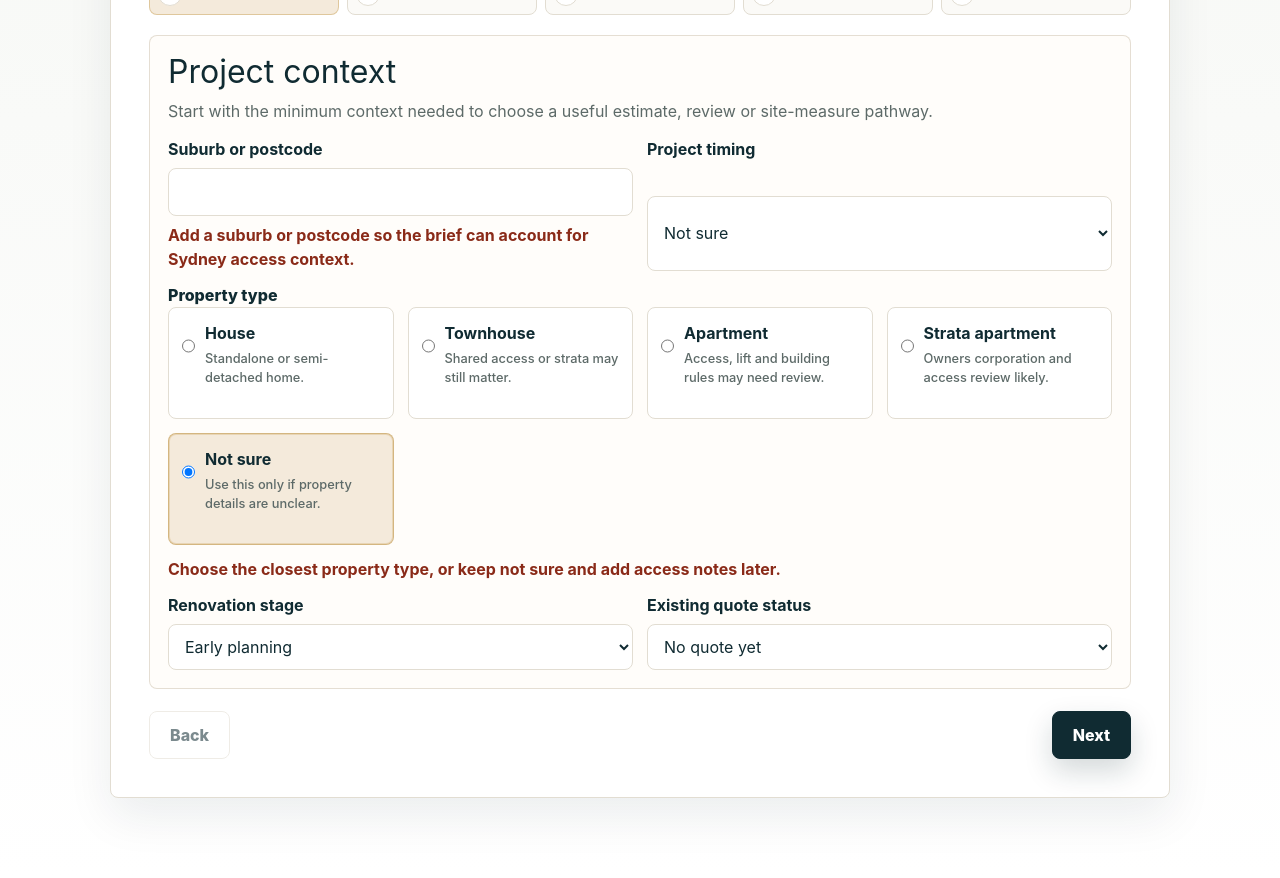
DesignBriefPage › renders enabled local fields, validation and review summary
The width and height of the screenshot is (1280, 878).
Earlier steps of the test are not shown.
Later steps or results of the test are not shown.
(page scrolled)
Expected: the text "Add a suburb or postcode" is shown, [168,225,588,269]
Step 1. Type "Mosman" into the field labelled "Suburb or postcode" → (400,192), box [168,168,633,216]
(page scrolled)
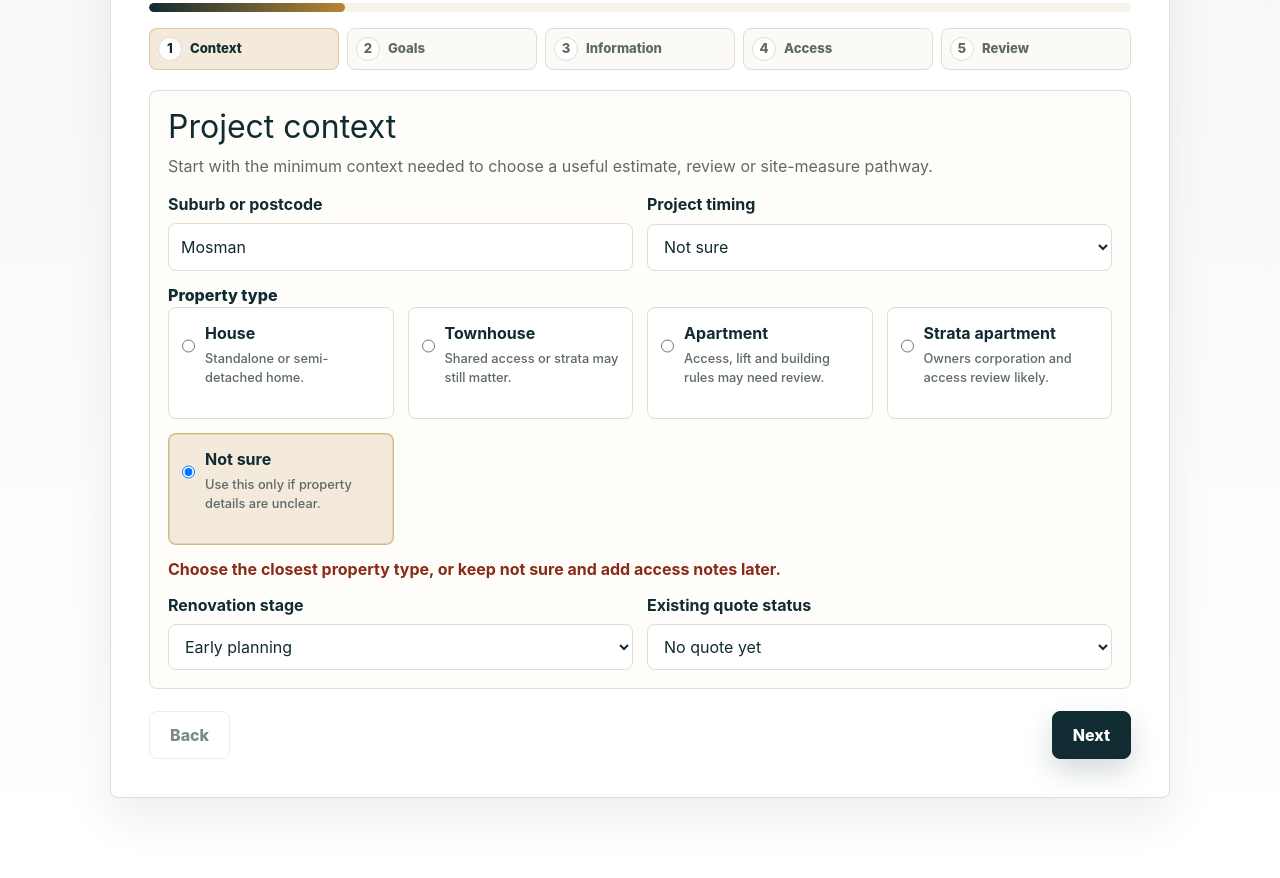
Step 2. Click the radio button labelled "House Standalone or semi-detached home." → (188,346), box [182,324,195,368]
(page scrolled)
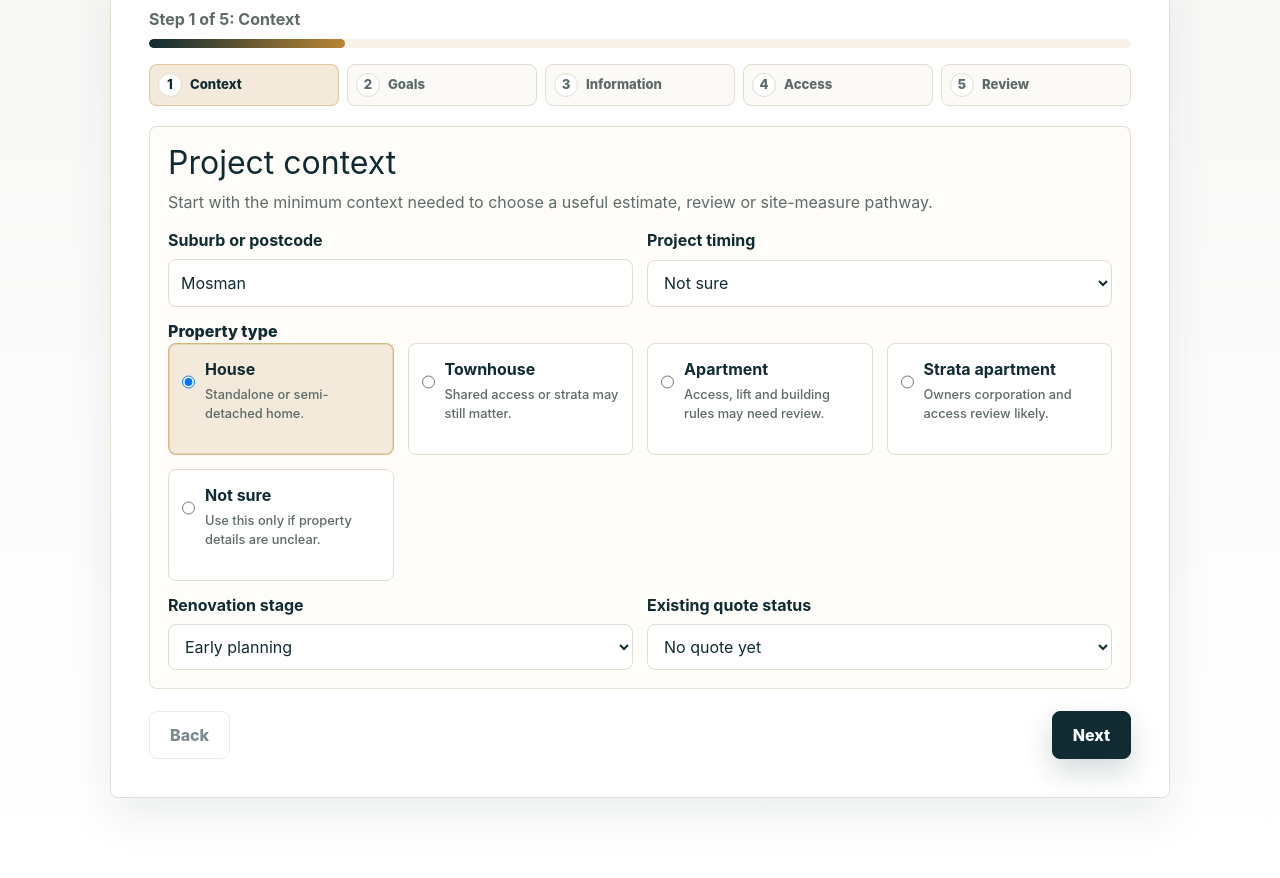
Step 3. Select "I have one quote" in the dropdown labelled "Existing quote status" → (880,647), box [647,624,1112,670]
Step 4. Click the button "Next" → (1091,735), box [1052,711,1131,759]
(page scrolled)
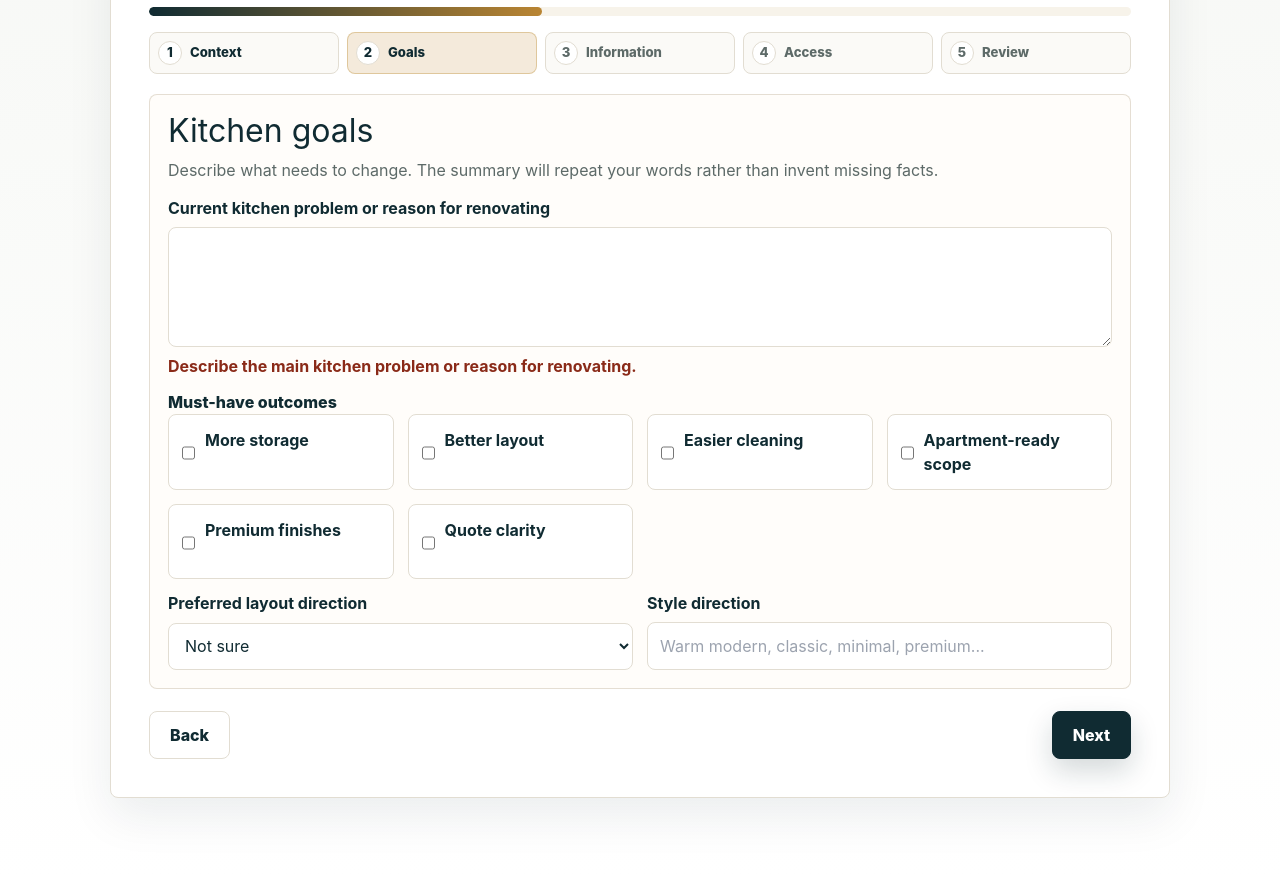
Expected: the heading "Kitchen goals" is shown, [168,110,373,150]
Step 5. Type "Storage is poor and the benchtop is worn" into the text box labelled "Current kitchen problem or reason for renovating" → (640,287), box [168,227,1112,347]
(page scrolled)
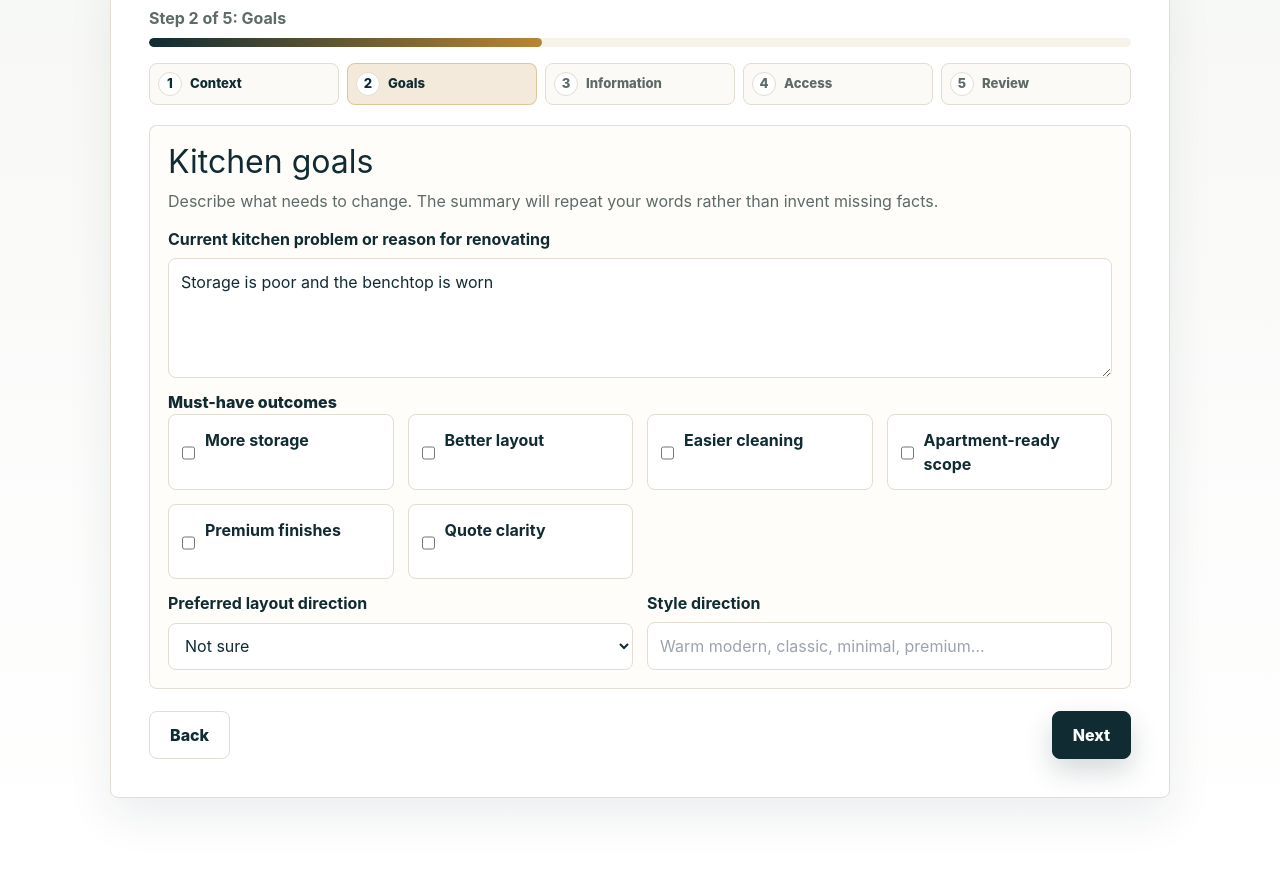
Step 6. Click the checkbox labelled "More storage" → (188,453), box [182,431,195,475]
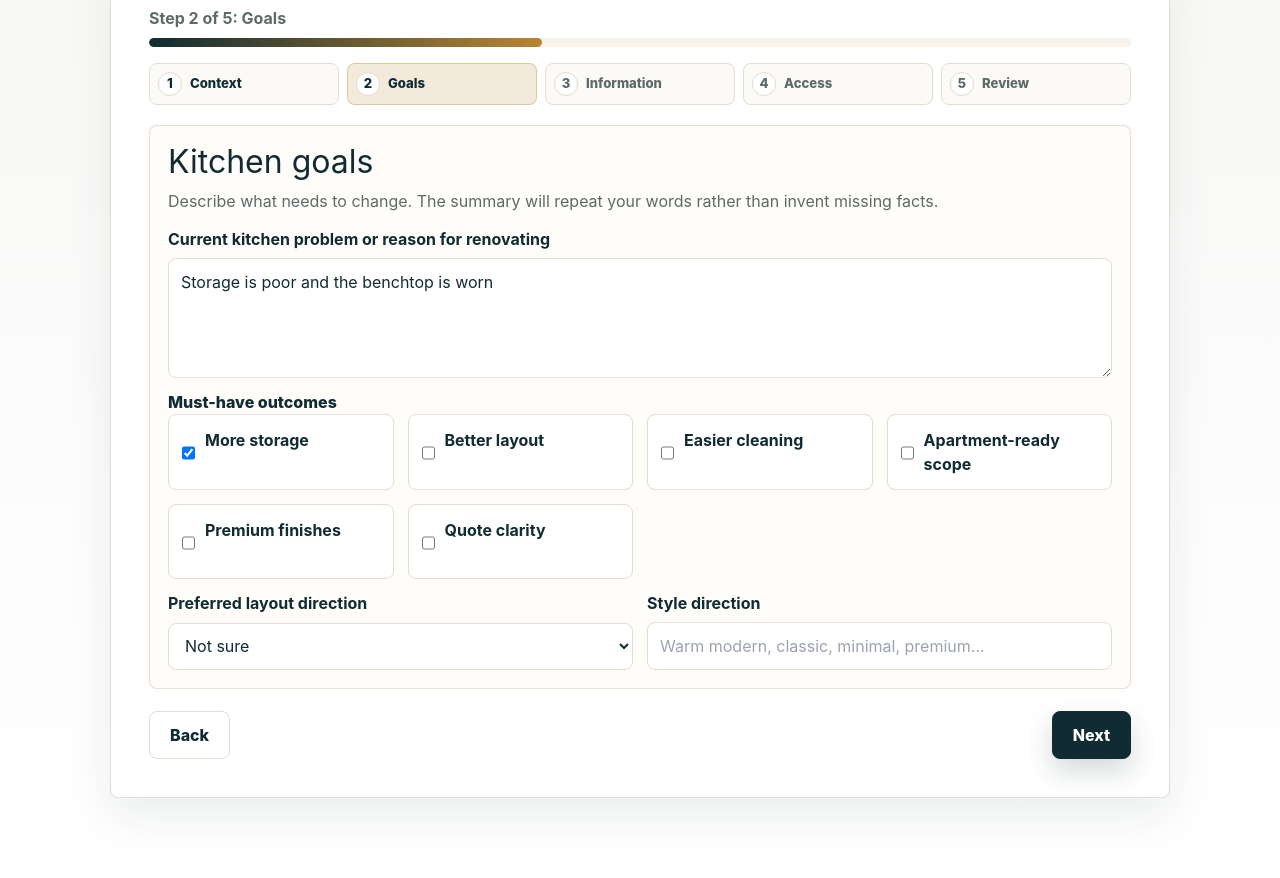
Step 7. Type "Warm modern" into the field labelled "Style direction" → (880,646), box [647,622,1112,670]
Step 8. Click the button "Next" → (1091,735), box [1052,711,1131,759]
(page scrolled)
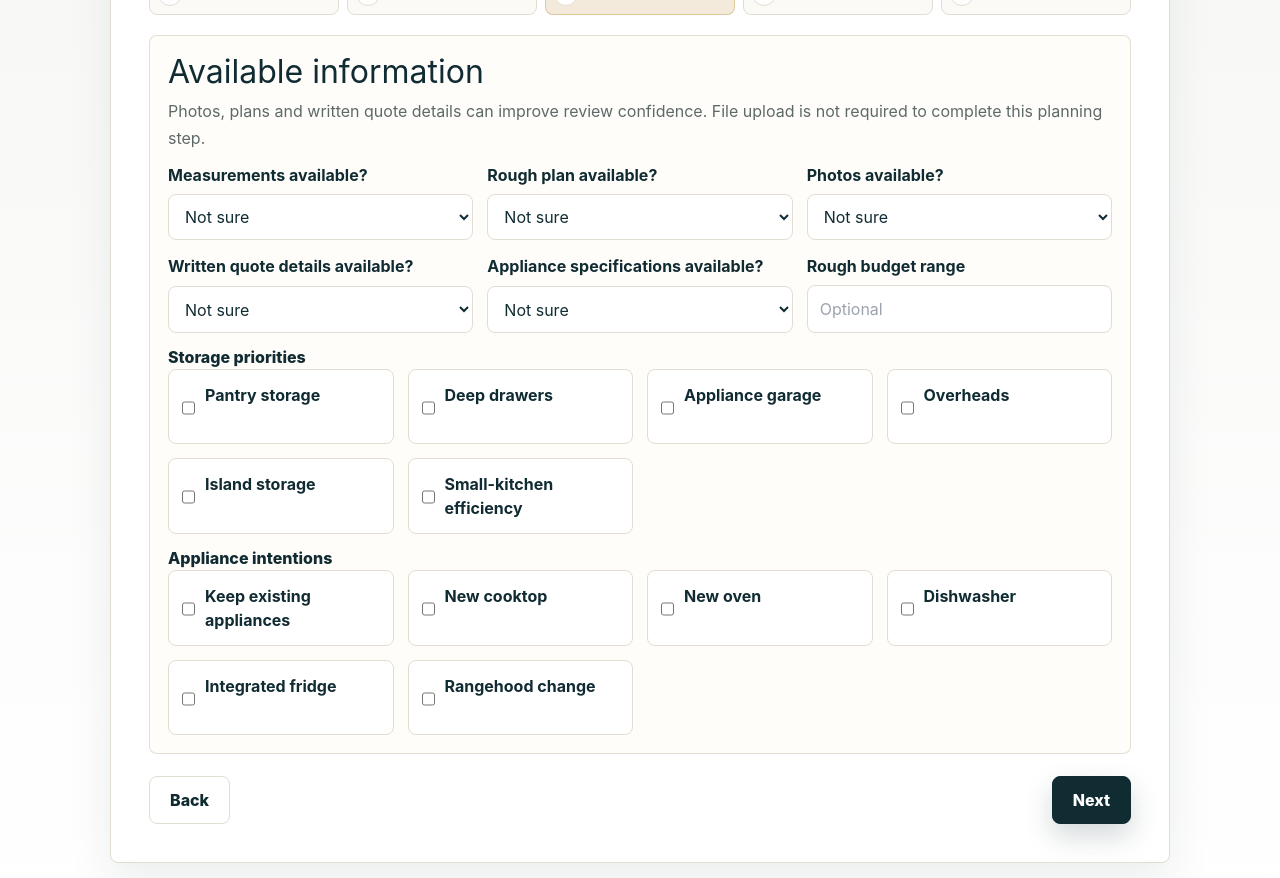
Expected: the heading "Available information" is shown, [168,52,484,90]
Expected: the text "File upload is not required to complete this planning step" is shown, [168,101,1102,148]
